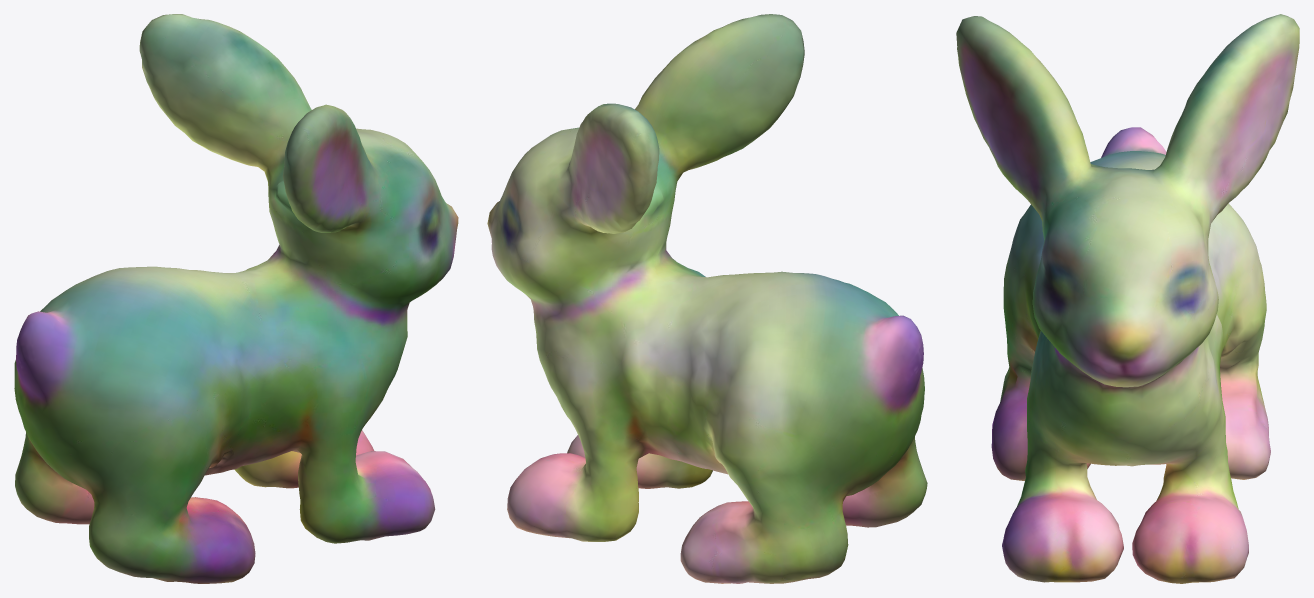
File: Create_rabbit_with_Bright_wide_eyes_with_a_welcoming_smile__0614155826_preview.obj
3 renders of one model, left to right at view 1: azimuth 30°, elevation 25°; view 2: azimuth 150°, elevation 25°; view 3: azimuth 270°, elevation 25°, orthographic. The views are drawn at different scales.
Parts seen in each view (by area): view 1: Mesh1; view 2: Mesh1; view 3: Mesh1.
Boxes of the visible parts, <box> form: Mesh1: <box>14,14,458,583</box>; Mesh1: <box>487,14,927,583</box>; Mesh1: <box>956,14,1299,583</box>.
Bounding box in the file's own units: 1.16 × 1.2 × 0.7473.
Materials: 1 (1 with a texture image).
